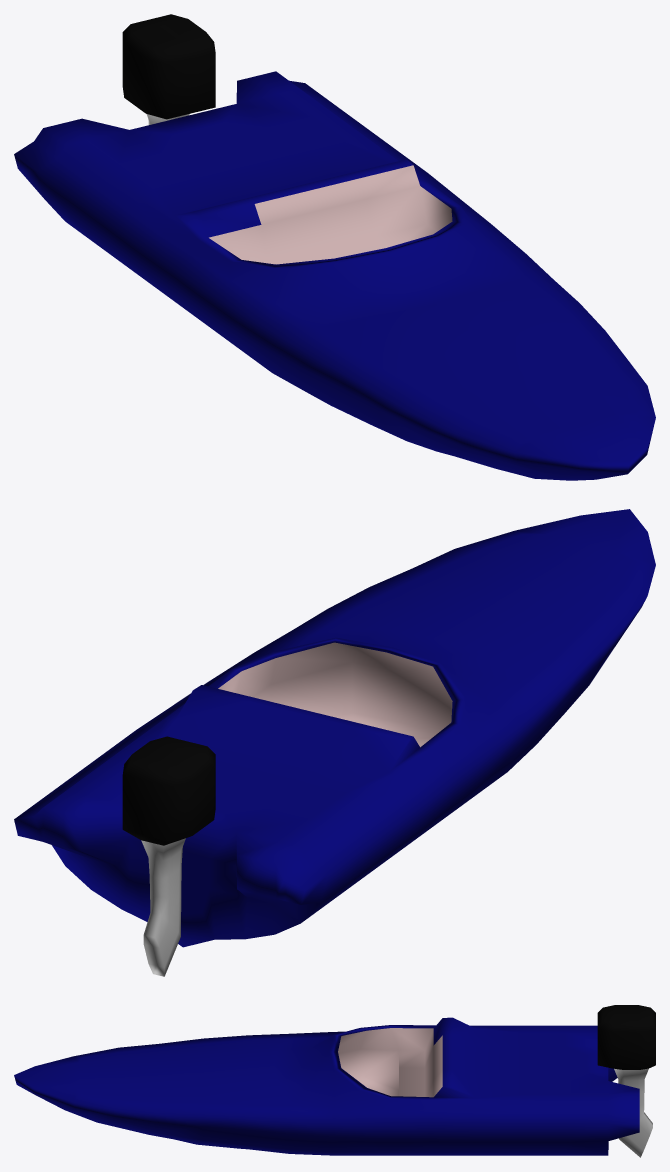
Rendered from Blue Ghayegh Motori.fbx.
3 views of the same model, one above another, from view 1: azimuth 30°, elevation 25°; view 2: azimuth 150°, elevation 25°; view 3: azimuth 270°, elevation 25° (orthographic). The views are drawn at different scales.
Visible parts, largest first — view 1: boat, motor; view 2: boat, motor; view 3: boat, motor.
Part boxes in pixels (x1,y1,x2,y2): boat: (14,71,655,480); motor: (122,14,215,124); boat: (14,509,655,947); motor: (122,736,215,976); boat: (14,1017,639,1155); motor: (597,1005,655,1157).
Size of the model in its own units: 182 by 128 by 523.
